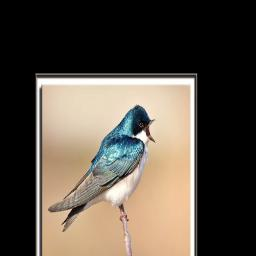Swallow: (47, 102, 157, 234)
